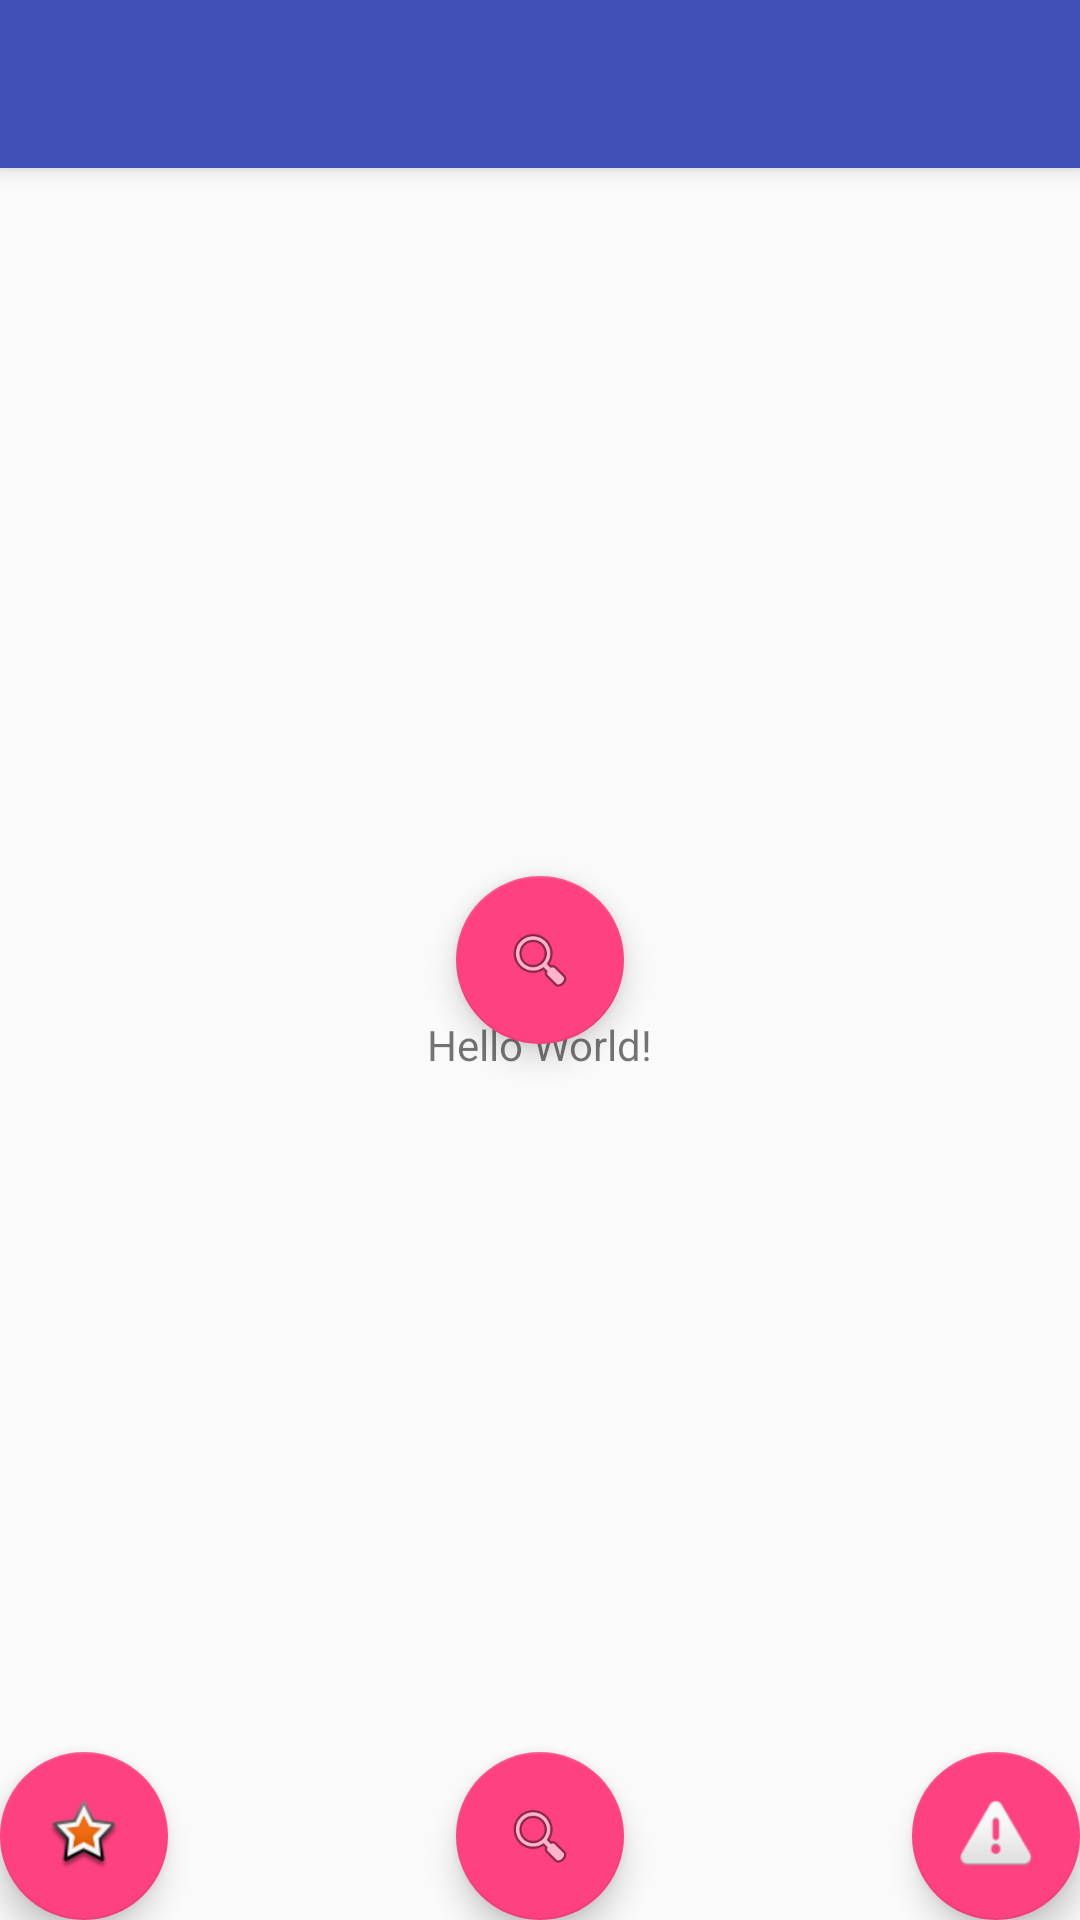

Point at icon controls on the screen. Image size 1080*1920, points as (x,y).
alert: (996,1836)
star on: (84,1836)
